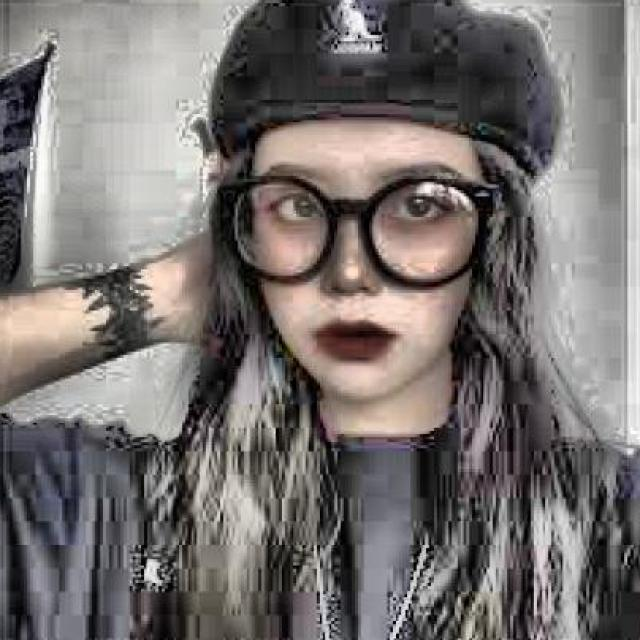Glasses: (212, 167, 502, 292)
